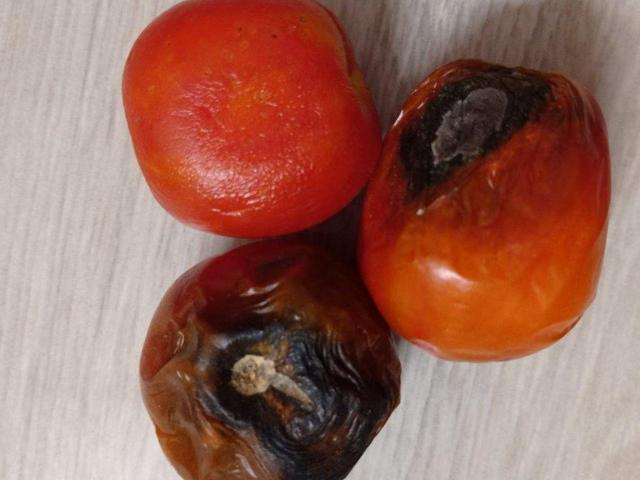defect: (361, 56, 614, 363), (136, 239, 405, 480)
